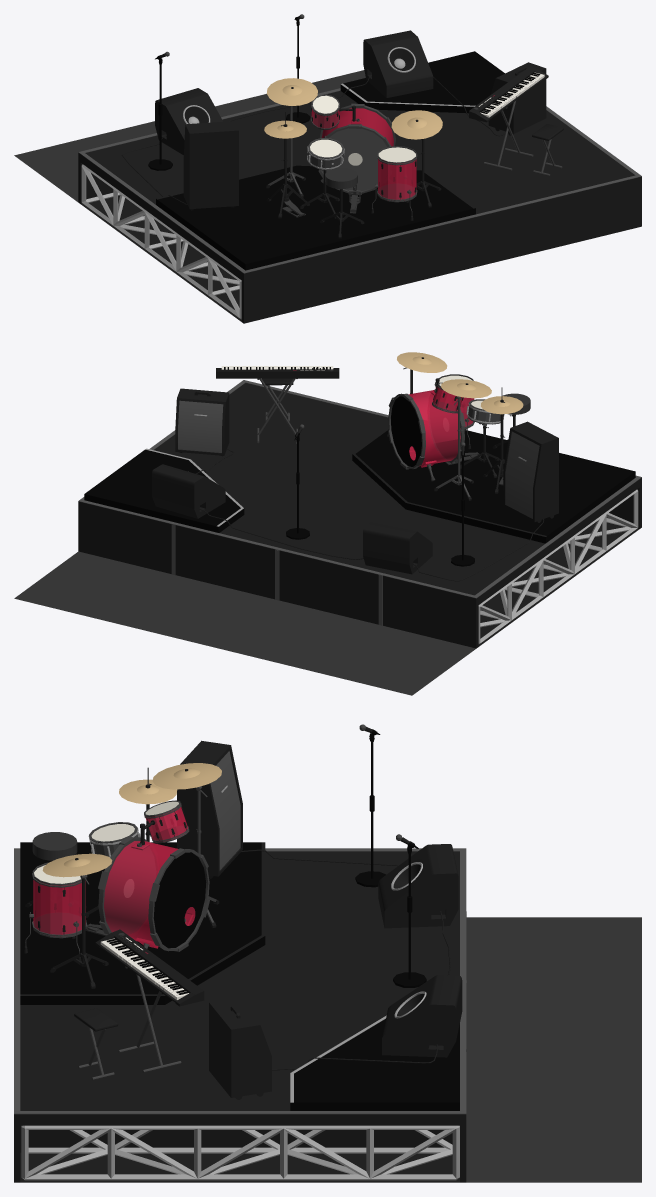
File: mademoisellek_base-scene.obj
3 views of the same model, one above another, from view 1: azimuth 30°, elevation 25°; view 2: azimuth 150°, elevation 25°; view 3: azimuth 270°, elevation 25° (orthographic). The views are drawn at different scales.
Parts seen in each view (by area): view 1: mademoisellek; view 2: mademoisellek; view 3: mademoisellek.
Part boxes in pixels (x1,y1,x2,y2): mademoisellek: [14, 14, 641, 323]; mademoisellek: [14, 352, 641, 695]; mademoisellek: [14, 724, 641, 1182].
Bounding box in the file's own units: 500 × 199 × 500.
